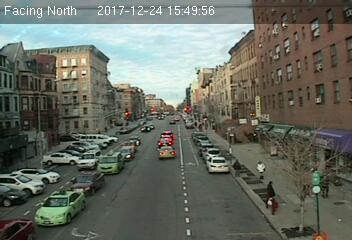car: (33, 189, 85, 225), (67, 172, 105, 195), (99, 150, 125, 176), (75, 150, 102, 170), (206, 155, 230, 173), (158, 144, 176, 160), (118, 146, 137, 161)
